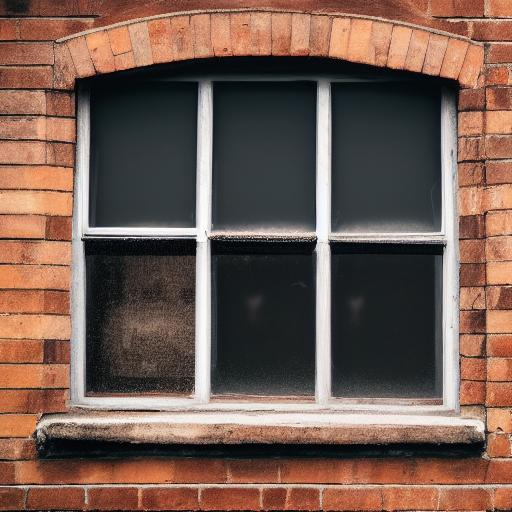Window: (33, 2, 488, 454)
